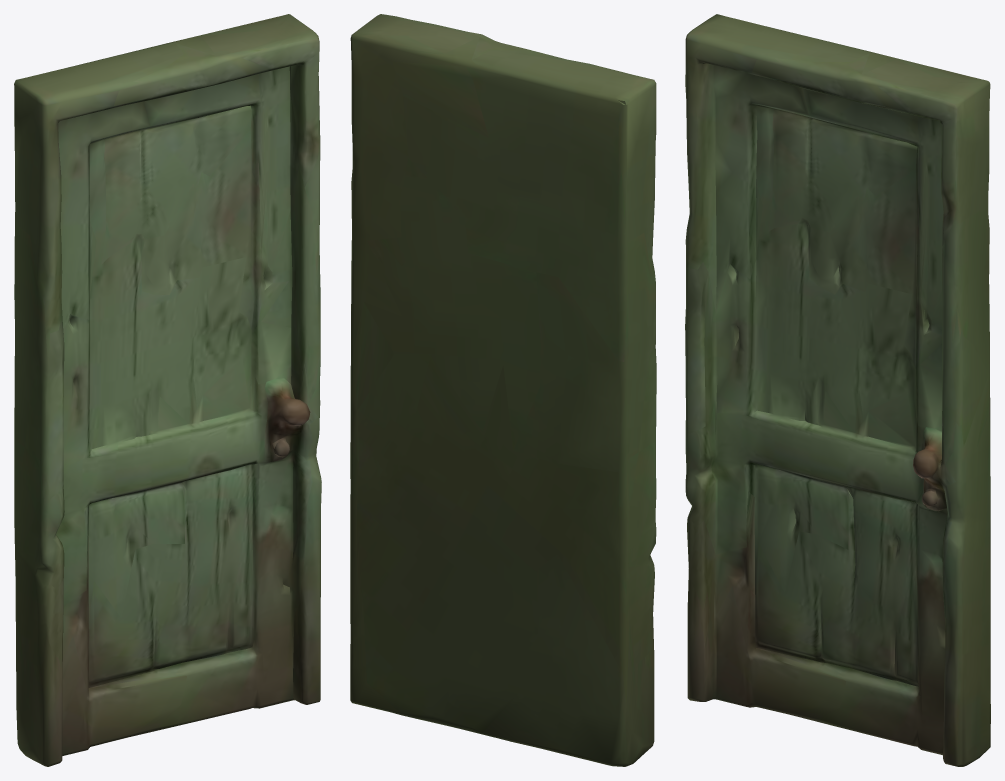
File: door_4_idle.glb
3 views of the same model, side by side, from view 1: azimuth 30°, elevation 25°; view 2: azimuth 150°, elevation 25°; view 3: azimuth 330°, elevation 25° (orthographic).
Parts seen in each view (by area): view 1: door_4; view 2: door_4; view 3: door_4.
Boxes of the visible parts, x1,y1,x2,y2 form: door_4: (14,14,321,766); door_4: (350,14,656,766); door_4: (685,14,990,766).
Bounding box in the file's own units: 0.9126 × 2.1 × 0.2374.
Materials: 1 (1 with a texture image).
